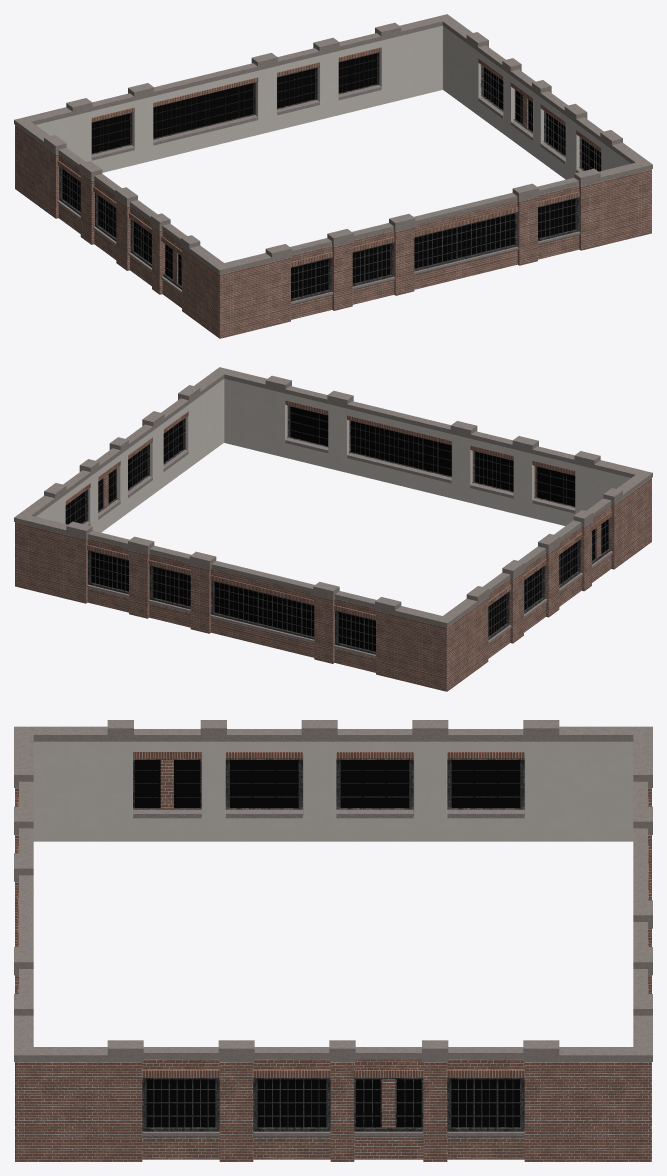
File: BuildingA_Top_VarA.fbx
3 renders of one model, top to bottom at view 1: azimuth 30°, elevation 25°; view 2: azimuth 150°, elevation 25°; view 3: azimuth 270°, elevation 25°, orthographic. The views are drawn at different scales.
Visible parts, largest first — view 1: BuildingA_Top_VarA; view 2: BuildingA_Top_VarA; view 3: BuildingA_Top_VarA.
Boxes of the visible parts, box(x1,y1,x2,y2) form: BuildingA_Top_VarA: box(14, 14, 652, 338); BuildingA_Top_VarA: box(14, 367, 652, 691); BuildingA_Top_VarA: box(14, 720, 652, 1161).
Bounding box in the file's own units: 2807 × 452 × 2307.
